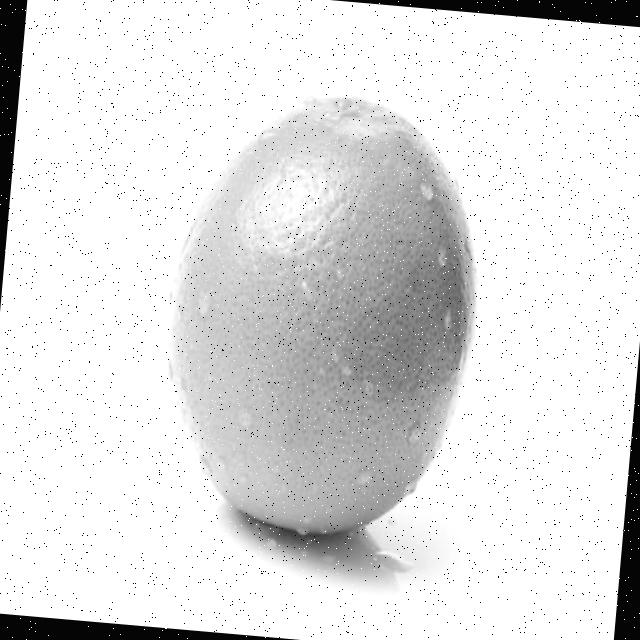Ripe: (144, 74, 499, 553)
